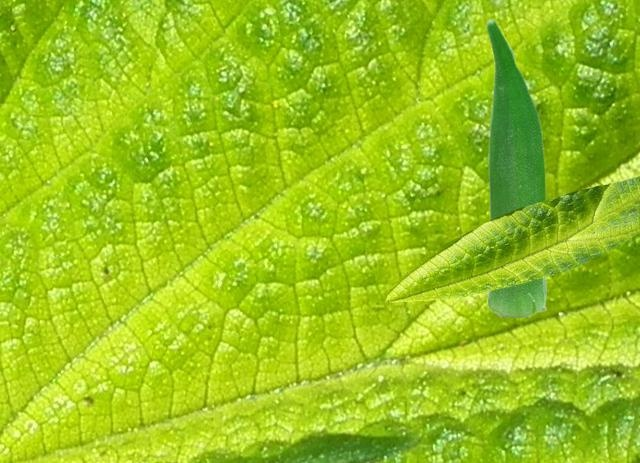okra: (486, 18, 545, 316)
